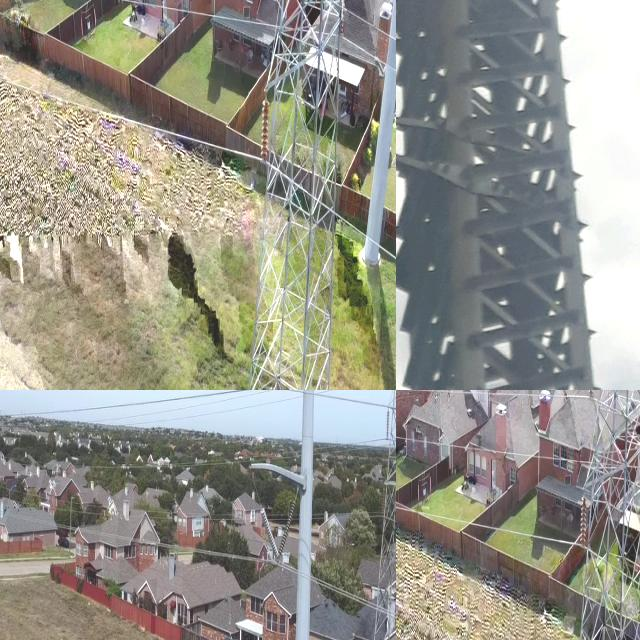杆塔: (396, 0, 605, 390), (238, 0, 346, 390), (574, 390, 640, 640), (369, 390, 396, 640)
正常电缆: (0, 486, 267, 577), (0, 390, 256, 426)
正常绝缘子: (254, 87, 273, 178), (278, 499, 298, 558), (260, 507, 278, 555), (579, 492, 589, 553), (385, 405, 392, 444)
